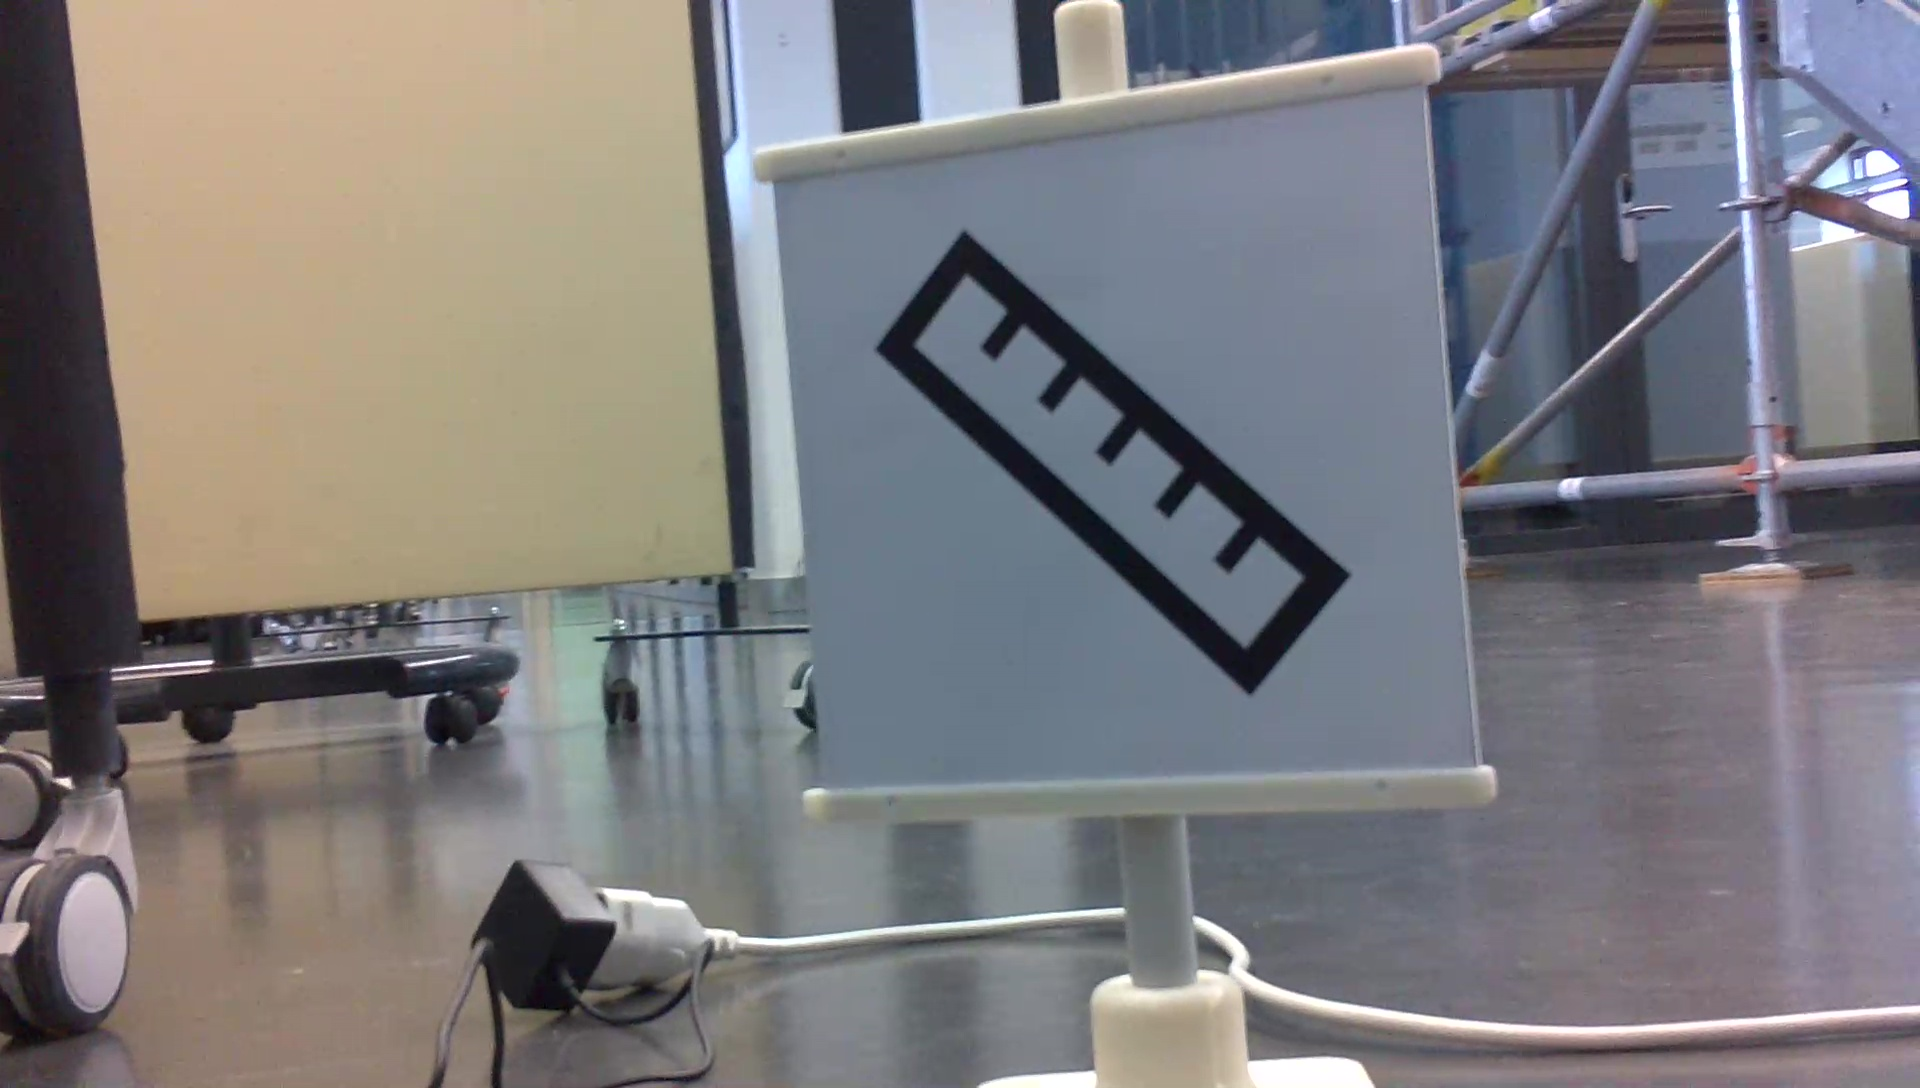ruler: (869, 222, 1350, 704)
